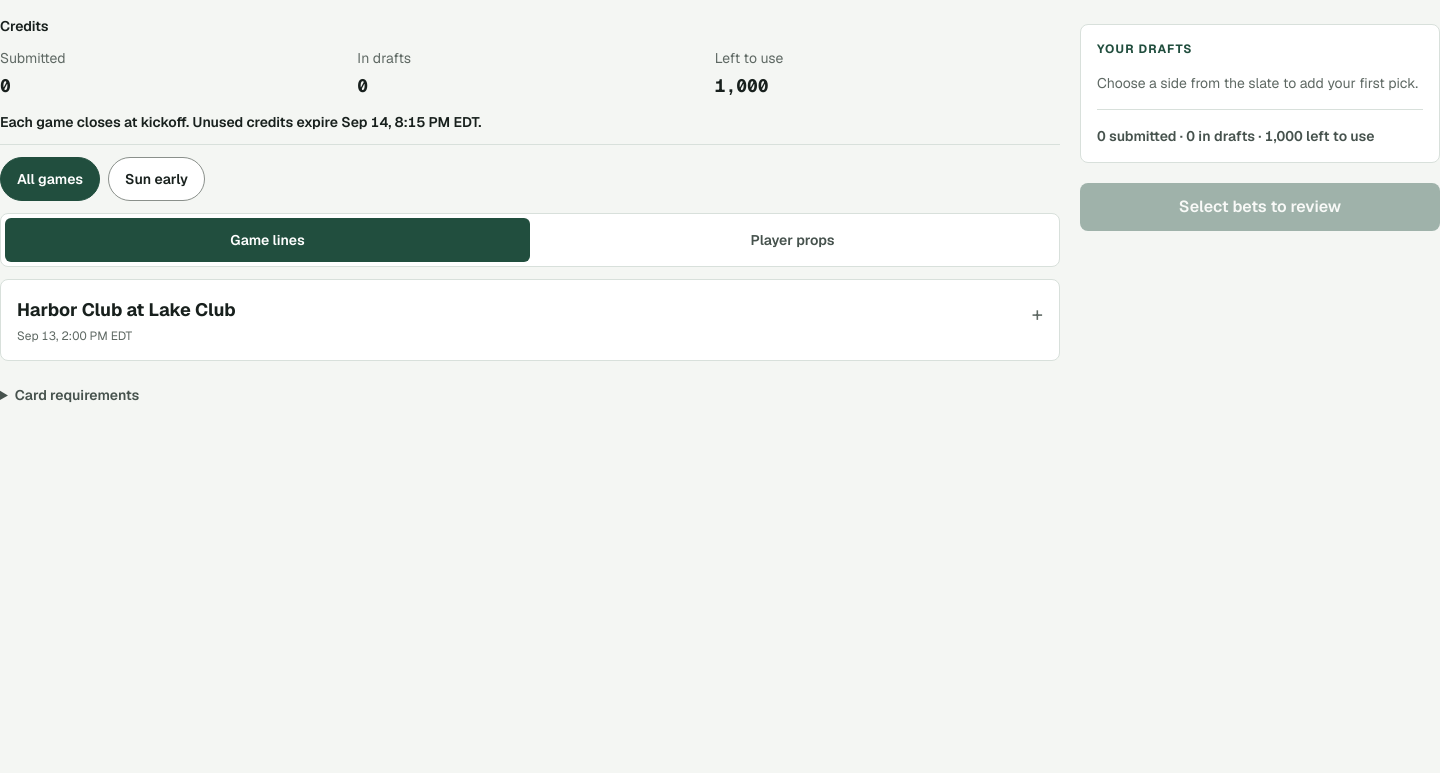
Scenario: full-slate props member experience › adds two passing-yard drafts for the same game using the shared editor and tray
Click the button "Player props" at (792, 240), box [530,218,1055,262]
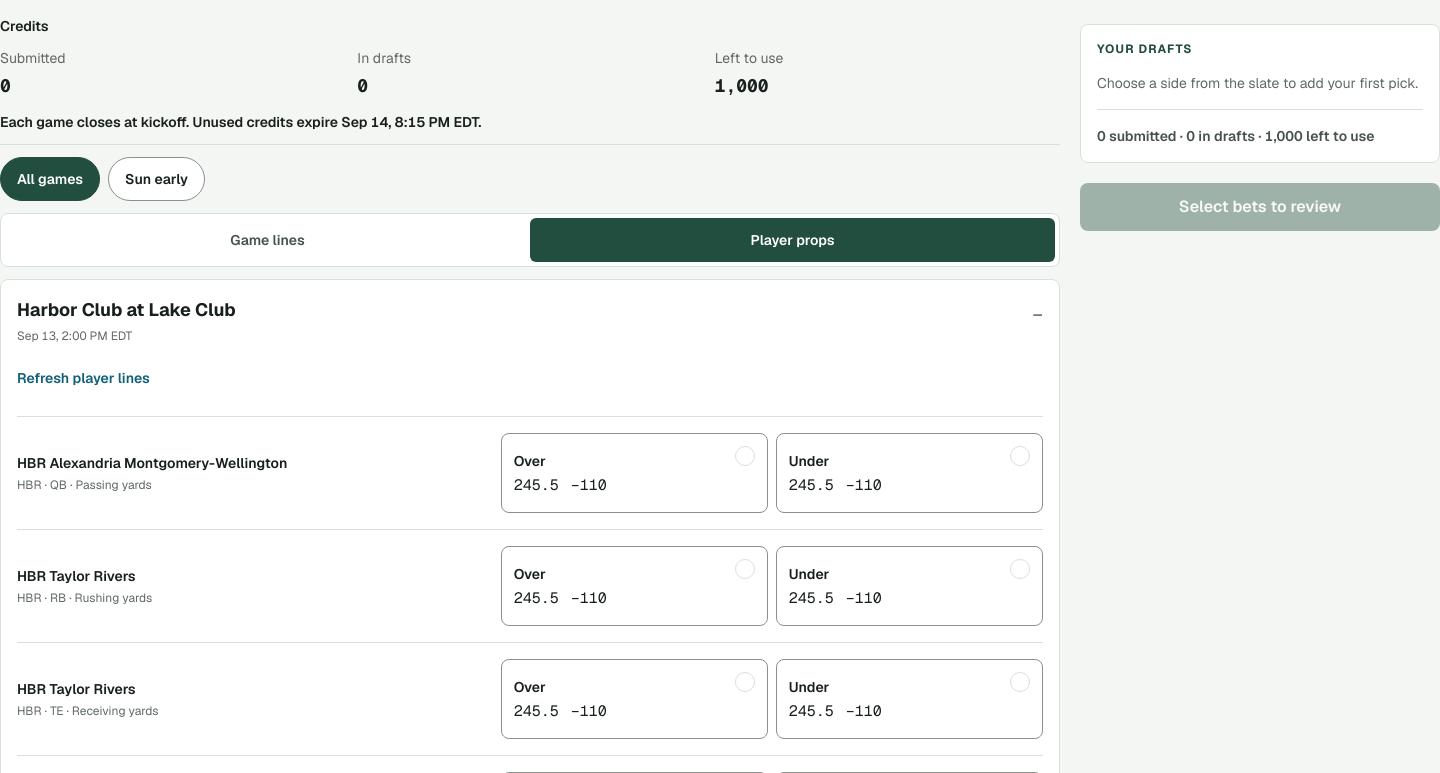
Click the button "Over 245.5 −110 ✓" in the row of "HBR Alexandria Montgomery-Wellington" at (530, 461), box [501,433,768,513]
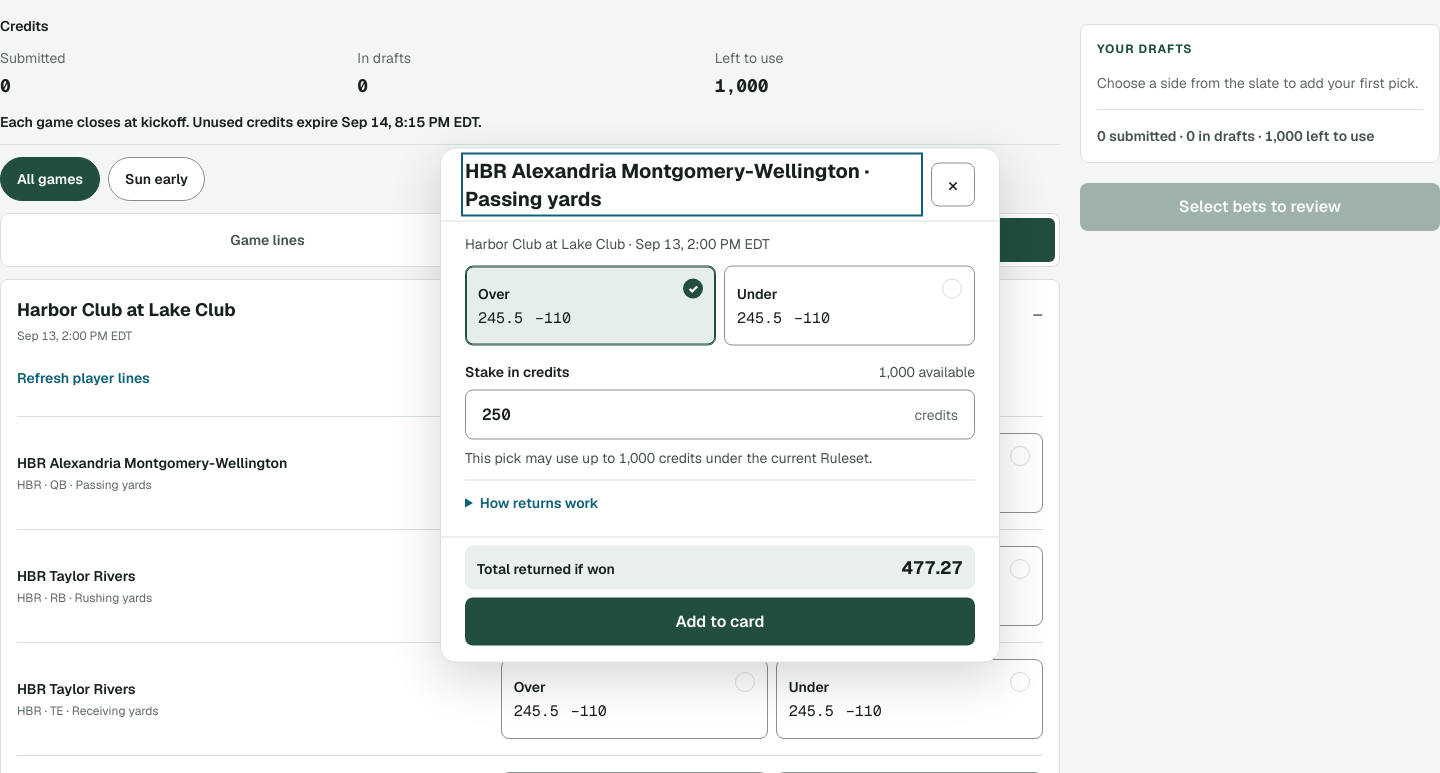
Click the button "Add to card" at (720, 622), box [465,598,975,646]
(page scrolled)
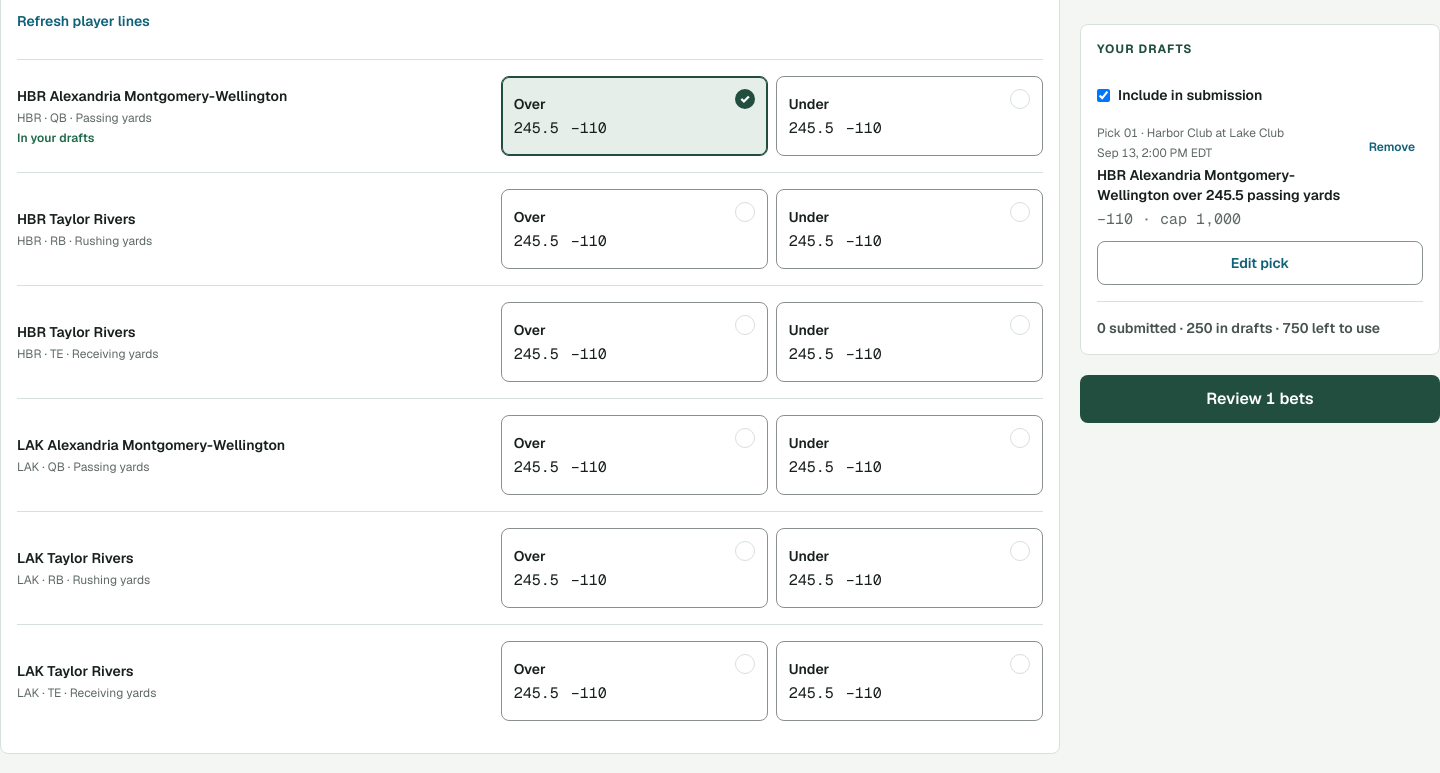
Click the button "Over 245.5 −110 ✓" in the row of "LAK Alexandria Montgomery-Wellington" at (530, 443), box [501,415,768,495]
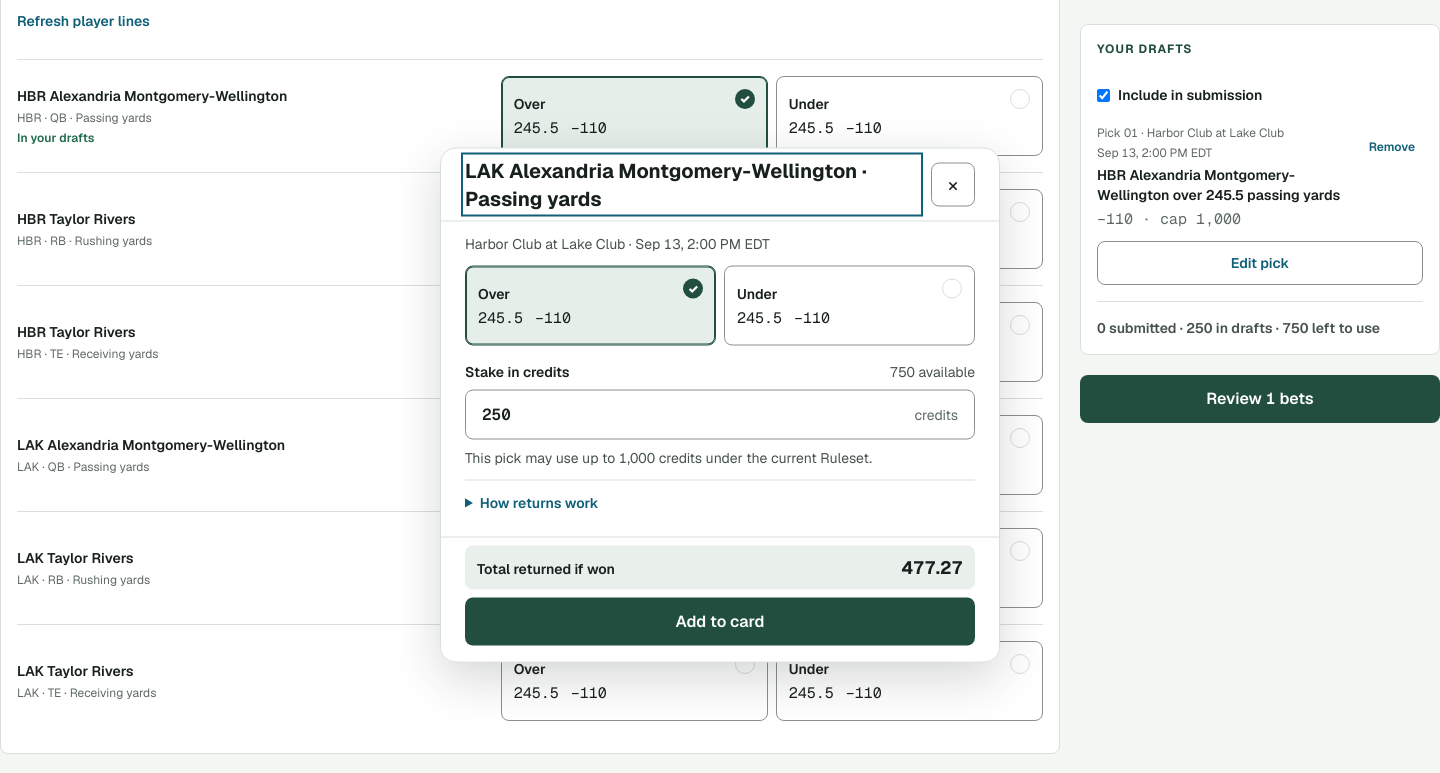
Click the button "Add to card" at (720, 622), box [465,598,975,646]
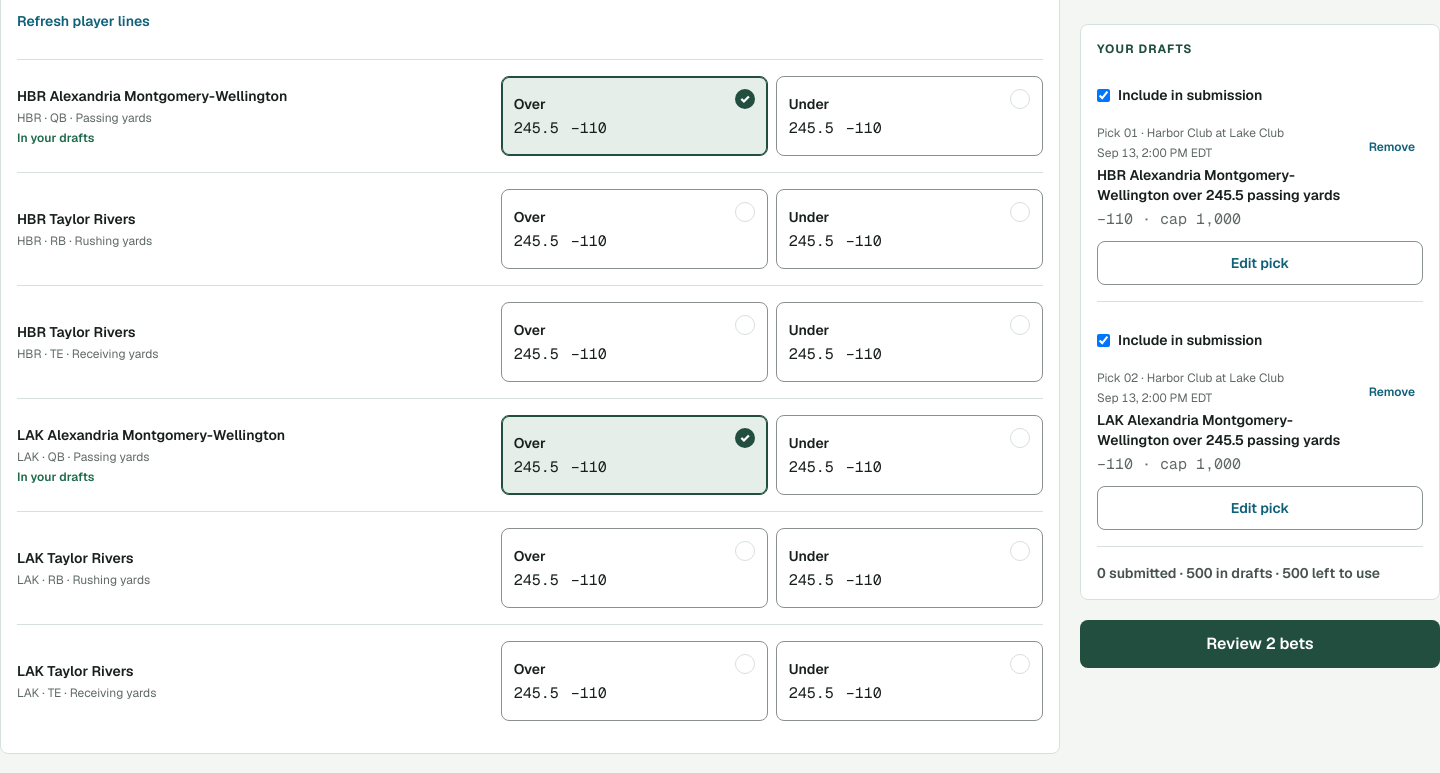
Now the button "Review 2 bets" is shown, box [1080,620,1439,668]
